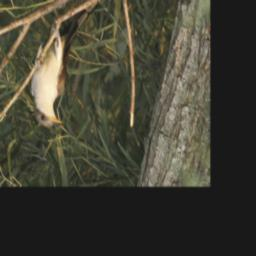Cuckoo: (28, 0, 101, 128)
